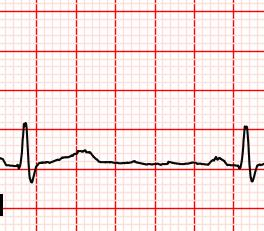LVH: (56, 143, 110, 165)
